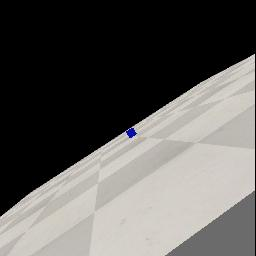box: (126, 128, 137, 138)
